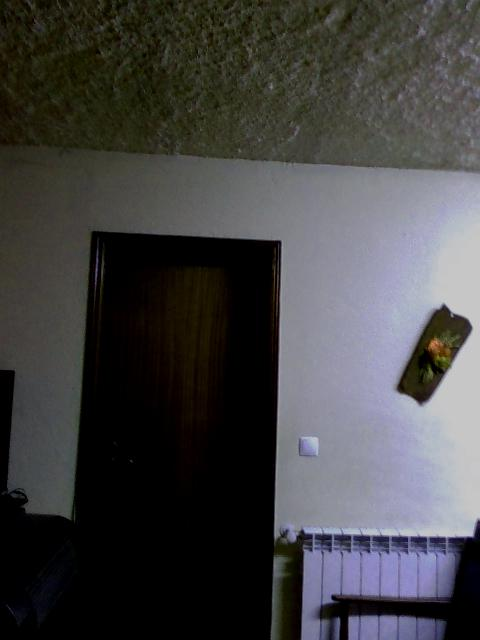closed_door: (75, 231, 279, 638)
